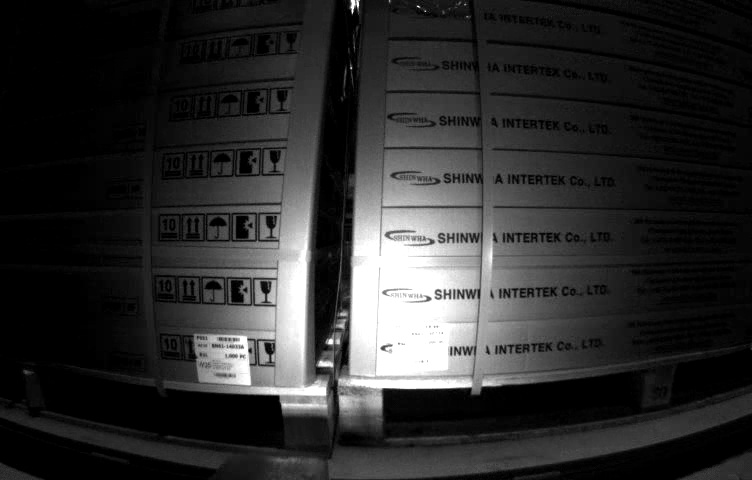True Barcode: (194, 334, 252, 387), (392, 321, 450, 373)
